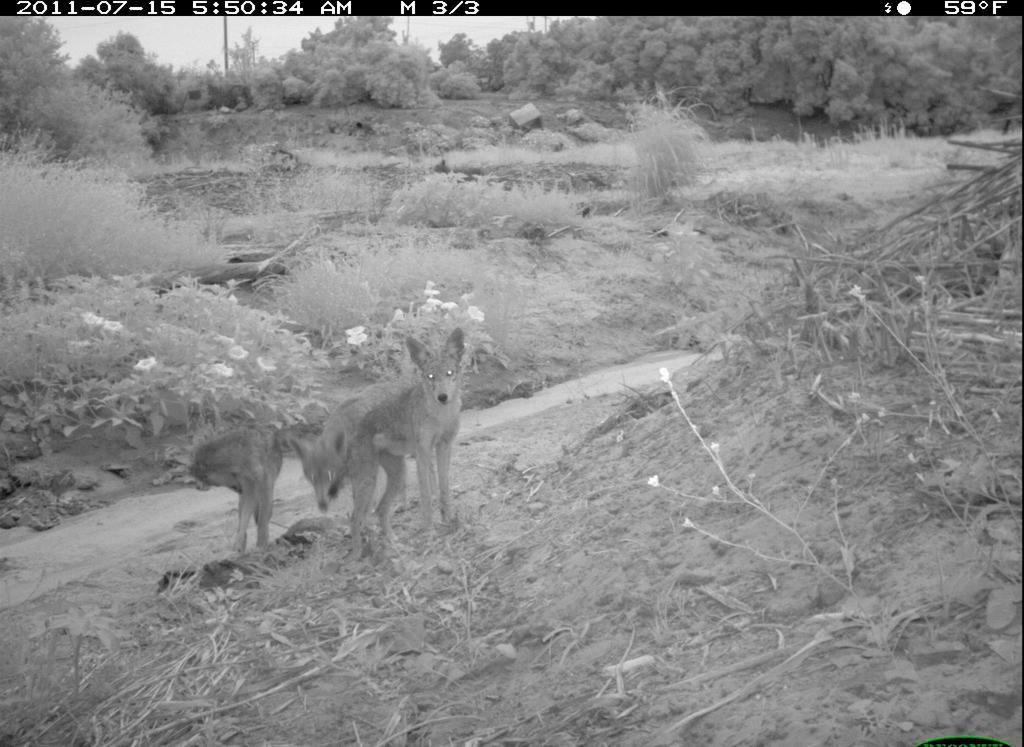coyote: (341, 323, 474, 560), (292, 376, 410, 533), (191, 426, 287, 564)
